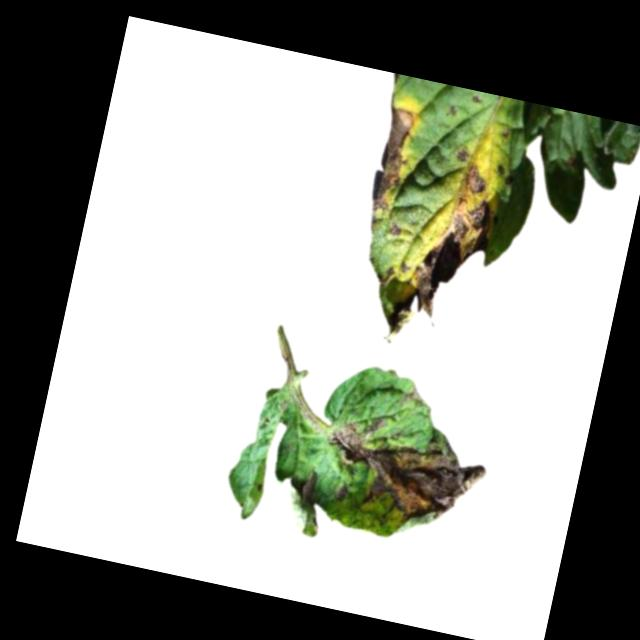Early_blight: (316, 409, 496, 533), (384, 184, 501, 360), (368, 105, 418, 215), (460, 164, 492, 198), (294, 469, 320, 510), (401, 384, 423, 411), (376, 264, 397, 290), (454, 147, 470, 163), (493, 163, 508, 179), (387, 223, 401, 239)
